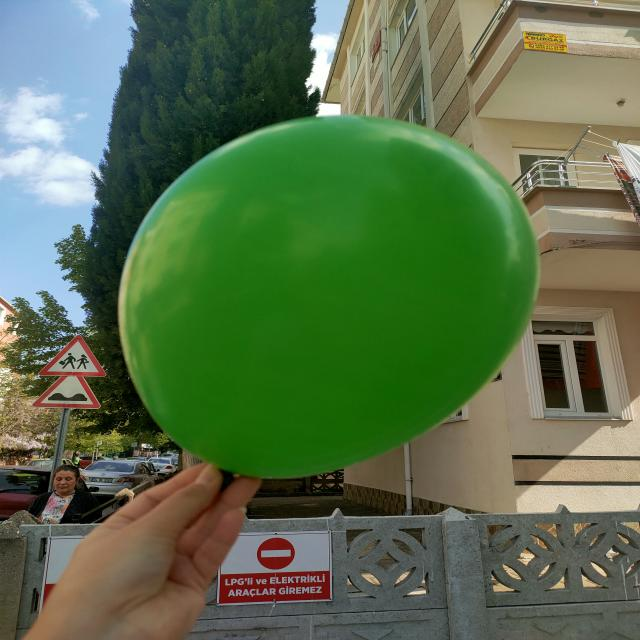green: (121, 116, 534, 475)
